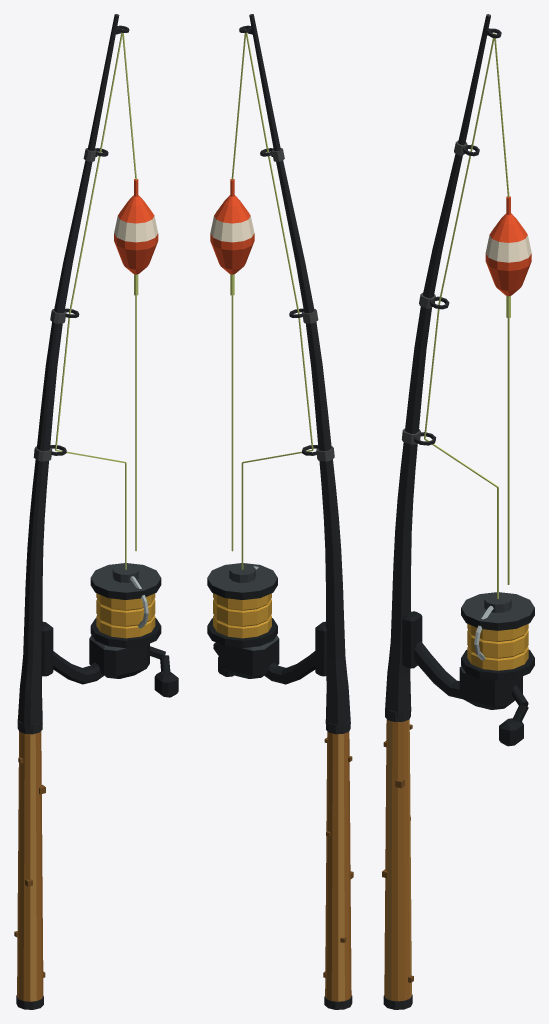
File: FishermanDad_Rod.fbx
The picture shows the model from 3 angles, left to right: view 1: azimuth 30°, elevation 25°; view 2: azimuth 150°, elevation 25°; view 3: azimuth 330°, elevation 25°; orthographic projection. The views are drawn at different scales.
Visible parts, largest first — view 1: FishingRod_Geo.001; view 2: FishingRod_Geo.001; view 3: FishingRod_Geo.001.
Part boxes in pixels (x1,y1,x2,y2): FishingRod_Geo.001: (14, 14, 178, 1009); FishingRod_Geo.001: (207, 14, 353, 1009); FishingRod_Geo.001: (382, 14, 534, 1009).
Bounding box in the file's own units: 1.12 × 7.25 × 0.5352.
Materials: 1 (1 with a texture image).
